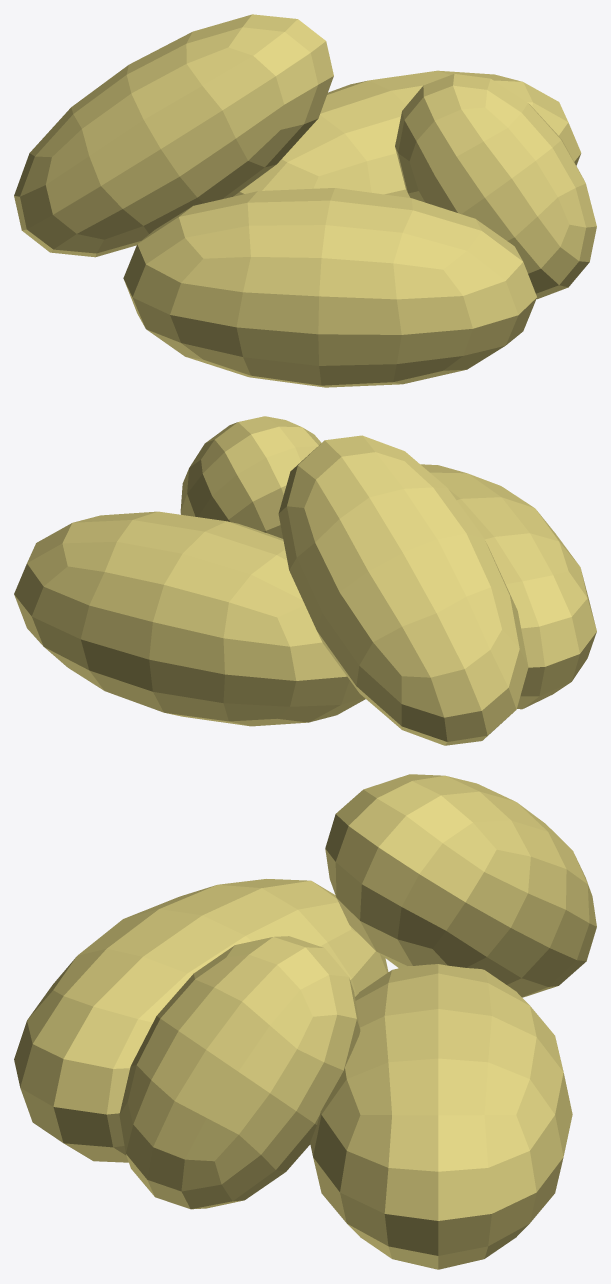
The model's file is patates_raw_high.fbx.
The picture shows the model from 3 angles, top to bottom: view 1: azimuth 30°, elevation 25°; view 2: azimuth 150°, elevation 25°; view 3: azimuth 270°, elevation 25°; orthographic projection. The views are drawn at different scales.
Visible parts, largest first — view 1: Cube_2, Cube, Cube_1, Cube_3; view 2: Cube_3, Cube, Cube_2, Cube_1; view 3: Cube_3, Cube_1, Cube, Cube_2.
Part boxes in pixels (bbox=[...]): Cube_2: bbox=[123, 188, 536, 387]; Cube: bbox=[14, 14, 333, 257]; Cube_1: bbox=[395, 74, 596, 299]; Cube_3: bbox=[233, 70, 581, 197]; Cube_3: bbox=[14, 511, 365, 726]; Cube: bbox=[278, 435, 528, 745]; Cube_2: bbox=[420, 464, 596, 709]; Cube_1: bbox=[180, 416, 321, 538]; Cube_3: bbox=[310, 964, 572, 1269]; Cube_1: bbox=[119, 936, 360, 1209]; Cube: bbox=[325, 774, 596, 997]; Cube_2: bbox=[14, 879, 388, 1162].
Size of the model in its own units: 80.01 by 42.01 by 64.37.
